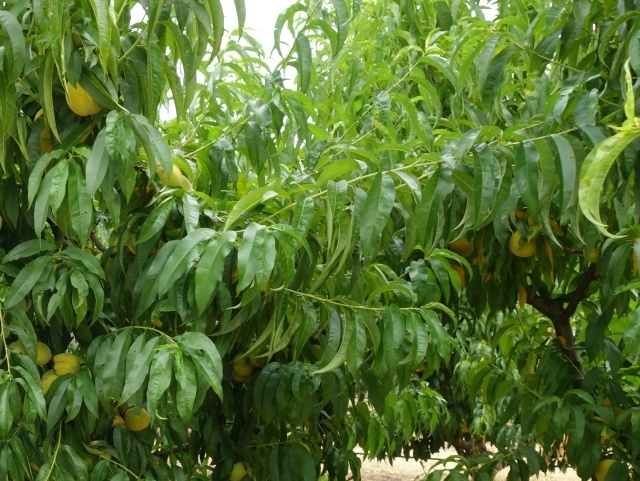peach: (60, 72, 102, 122), (504, 222, 538, 259), (123, 402, 156, 439), (51, 349, 84, 383), (444, 229, 477, 262), (232, 348, 259, 378), (39, 366, 70, 392), (225, 456, 257, 481), (28, 337, 55, 366), (591, 454, 616, 481)
